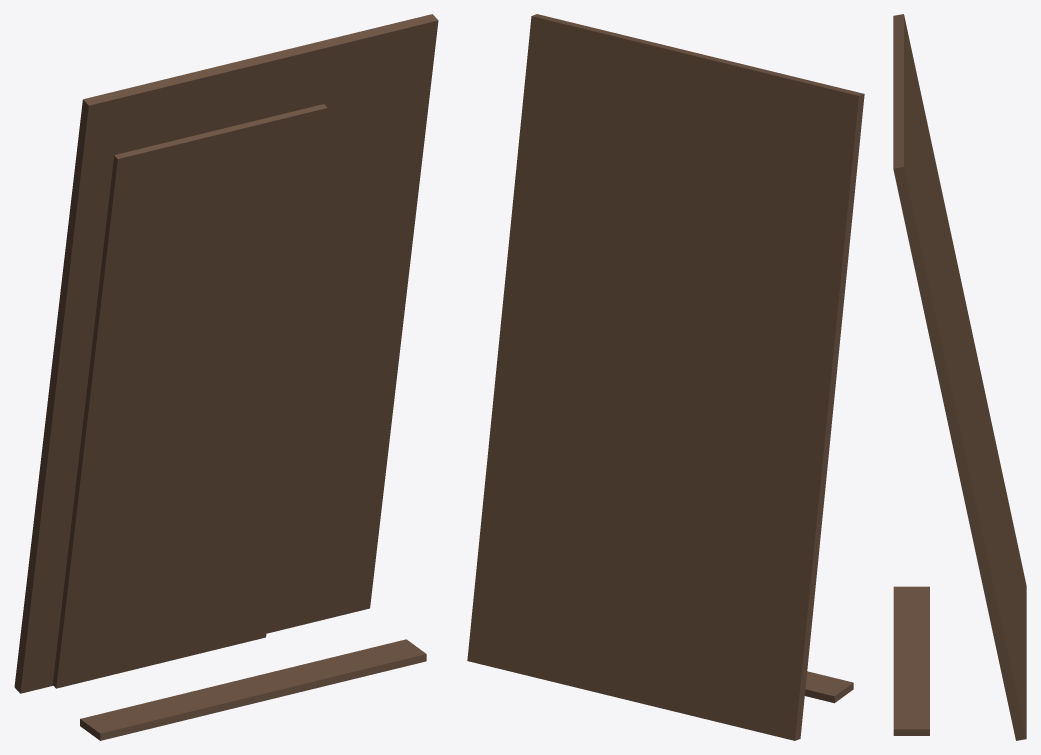
Rendered from hallway-leaning-panel.glb.
3 renders of one model, left to right at view 1: azimuth 30°, elevation 25°; view 2: azimuth 150°, elevation 25°; view 3: azimuth 270°, elevation 25°, orthographic. The views are drawn at different scales.
Visible parts, largest first — view 1: wood; view 2: wood; view 3: wood.
Part boxes in pixels (<box>): wood: <box>14,14,438,740</box>; wood: <box>467,14,864,740</box>; wood: <box>893,14,1026,740</box>.
Bounding box in the file's own units: 0.6 × 1.05 × 0.2211.
